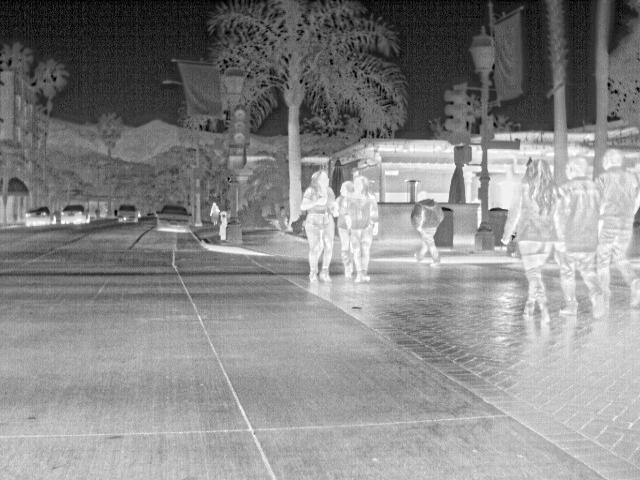car: (155, 206, 194, 234), (25, 206, 57, 229), (59, 203, 91, 226), (114, 204, 142, 224)
person: (502, 156, 563, 324), (550, 154, 602, 316), (595, 149, 639, 314), (297, 170, 336, 287), (341, 177, 376, 283), (411, 190, 448, 264), (208, 202, 221, 227), (338, 180, 355, 199)
